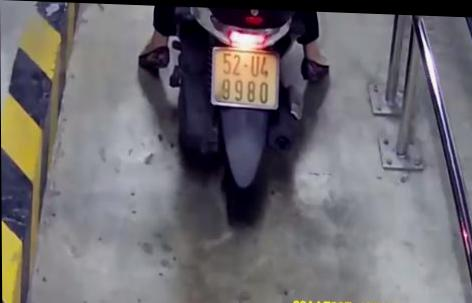License_Plate: (205, 44, 286, 117)
